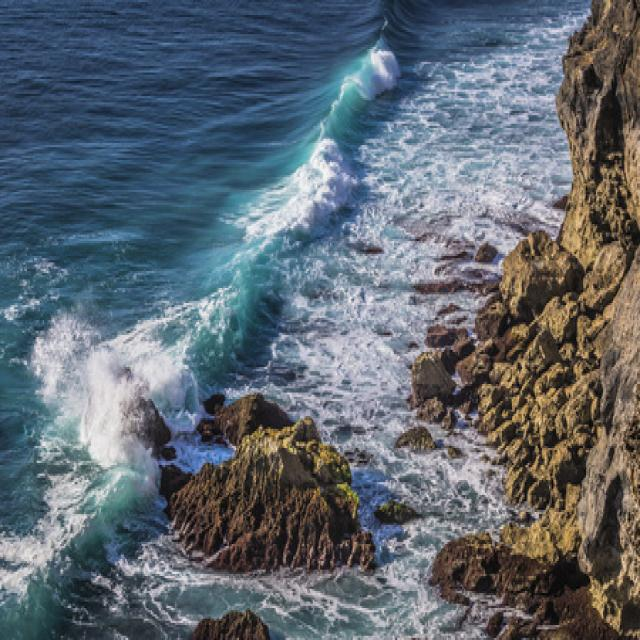reef: (129, 366, 383, 582), (400, 186, 520, 484)
